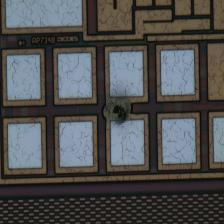BLOCK ETCH: (100, 93, 136, 129)
